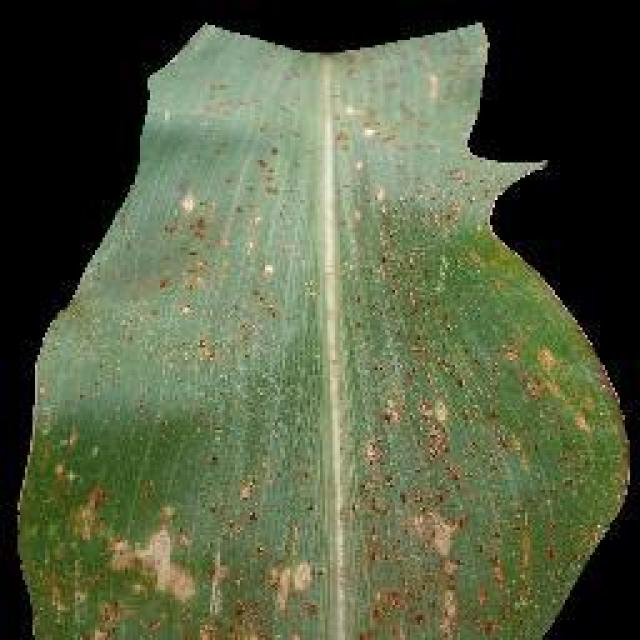Corn Common Rust: (125, 170, 575, 632)
